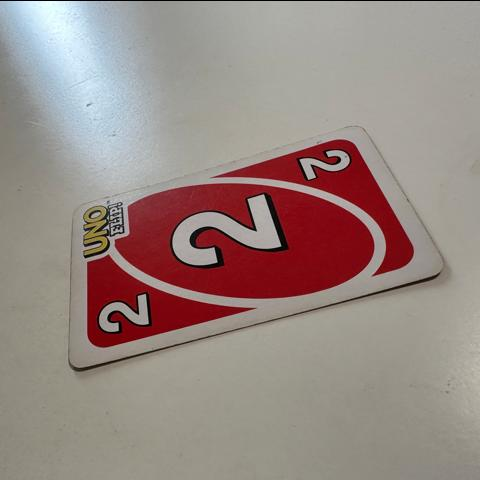lred-2: (90, 277, 158, 342)
